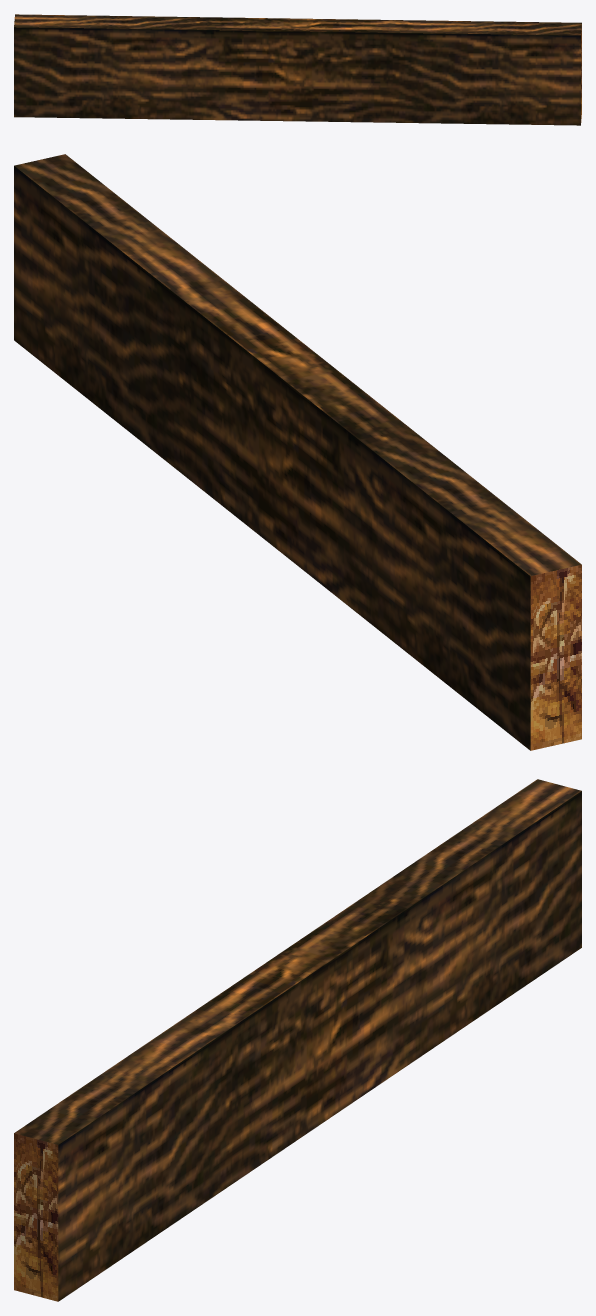
File: OVERHILL_A_01_BOX93.fbx
3 renders of one model, top to bottom at view 1: azimuth 30°, elevation 25°; view 2: azimuth 150°, elevation 25°; view 3: azimuth 270°, elevation 25°, orthographic. The views are drawn at different scales.
Visible parts, largest first — view 1: OVERHILL_A_01_BOX93; view 2: OVERHILL_A_01_BOX93; view 3: OVERHILL_A_01_BOX93.
Boxes of the visible parts, box(x1,y1,x2,y2) form: OVERHILL_A_01_BOX93: box(14, 14, 581, 125); OVERHILL_A_01_BOX93: box(14, 154, 581, 750); OVERHILL_A_01_BOX93: box(14, 779, 581, 1301).
Bounding box in the file's own units: 8268 × 1653 × 5425.
2 materials, 2 textured.
